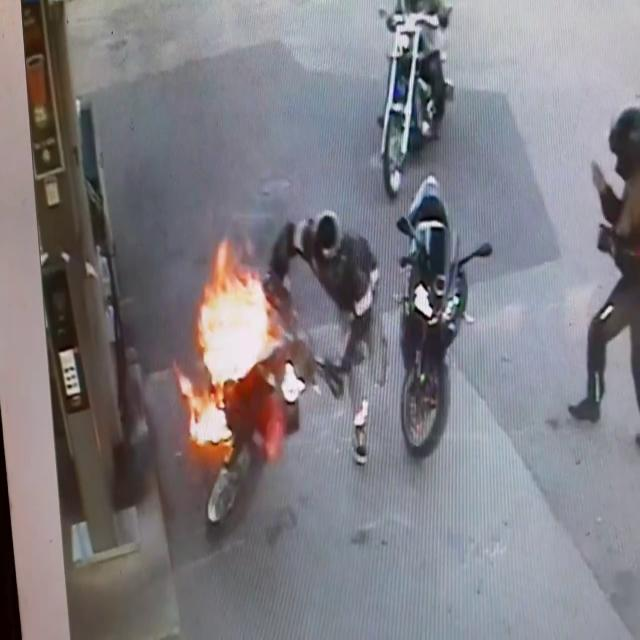Fire: (172, 229, 286, 461)
